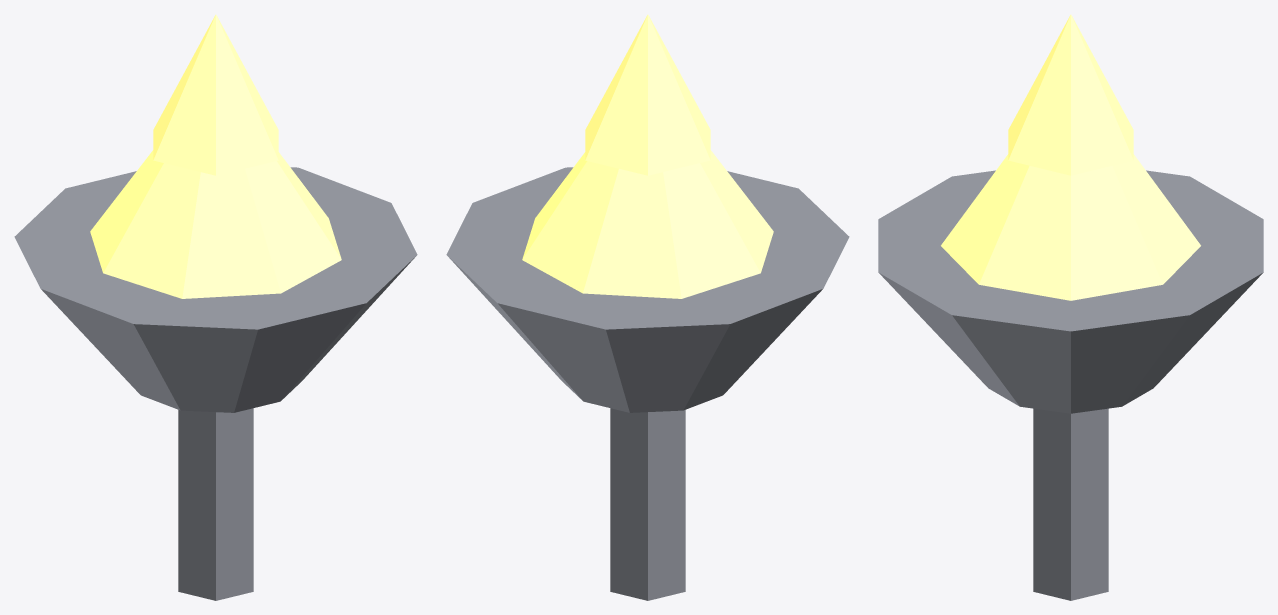
Rendered from brazier.glb.
The picture shows the model from 3 angles, left to right: view 1: azimuth 30°, elevation 25°; view 2: azimuth 150°, elevation 25°; view 3: azimuth 270°, elevation 25°; orthographic projection.
Visible parts, largest first — view 1: brazier_01, brazier_02, brazier_00, brazier_03; view 2: brazier_01, brazier_02, brazier_00, brazier_03; view 3: brazier_01, brazier_02, brazier_00, brazier_03.
Part boxes in pixels (left/top/right/bottom): brazier_01: left=14, top=167, right=417, bottom=412; brazier_02: left=90, top=150, right=341, bottom=298; brazier_00: left=178, top=408, right=253, bottom=600; brazier_03: left=153, top=14, right=278, bottom=175; brazier_01: left=446, top=167, right=849, bottom=412; brazier_02: left=522, top=150, right=773, bottom=298; brazier_00: left=610, top=408, right=685, bottom=600; brazier_03: left=585, top=14, right=710, bottom=175; brazier_01: left=878, top=170, right=1263, bottom=413; brazier_02: left=941, top=154, right=1200, bottom=300; brazier_00: left=1033, top=408, right=1108, bottom=600; brazier_03: left=1008, top=14, right=1133, bottom=175.
Bounding box in the file's own units: 0.84 × 1.3 × 0.7989.
